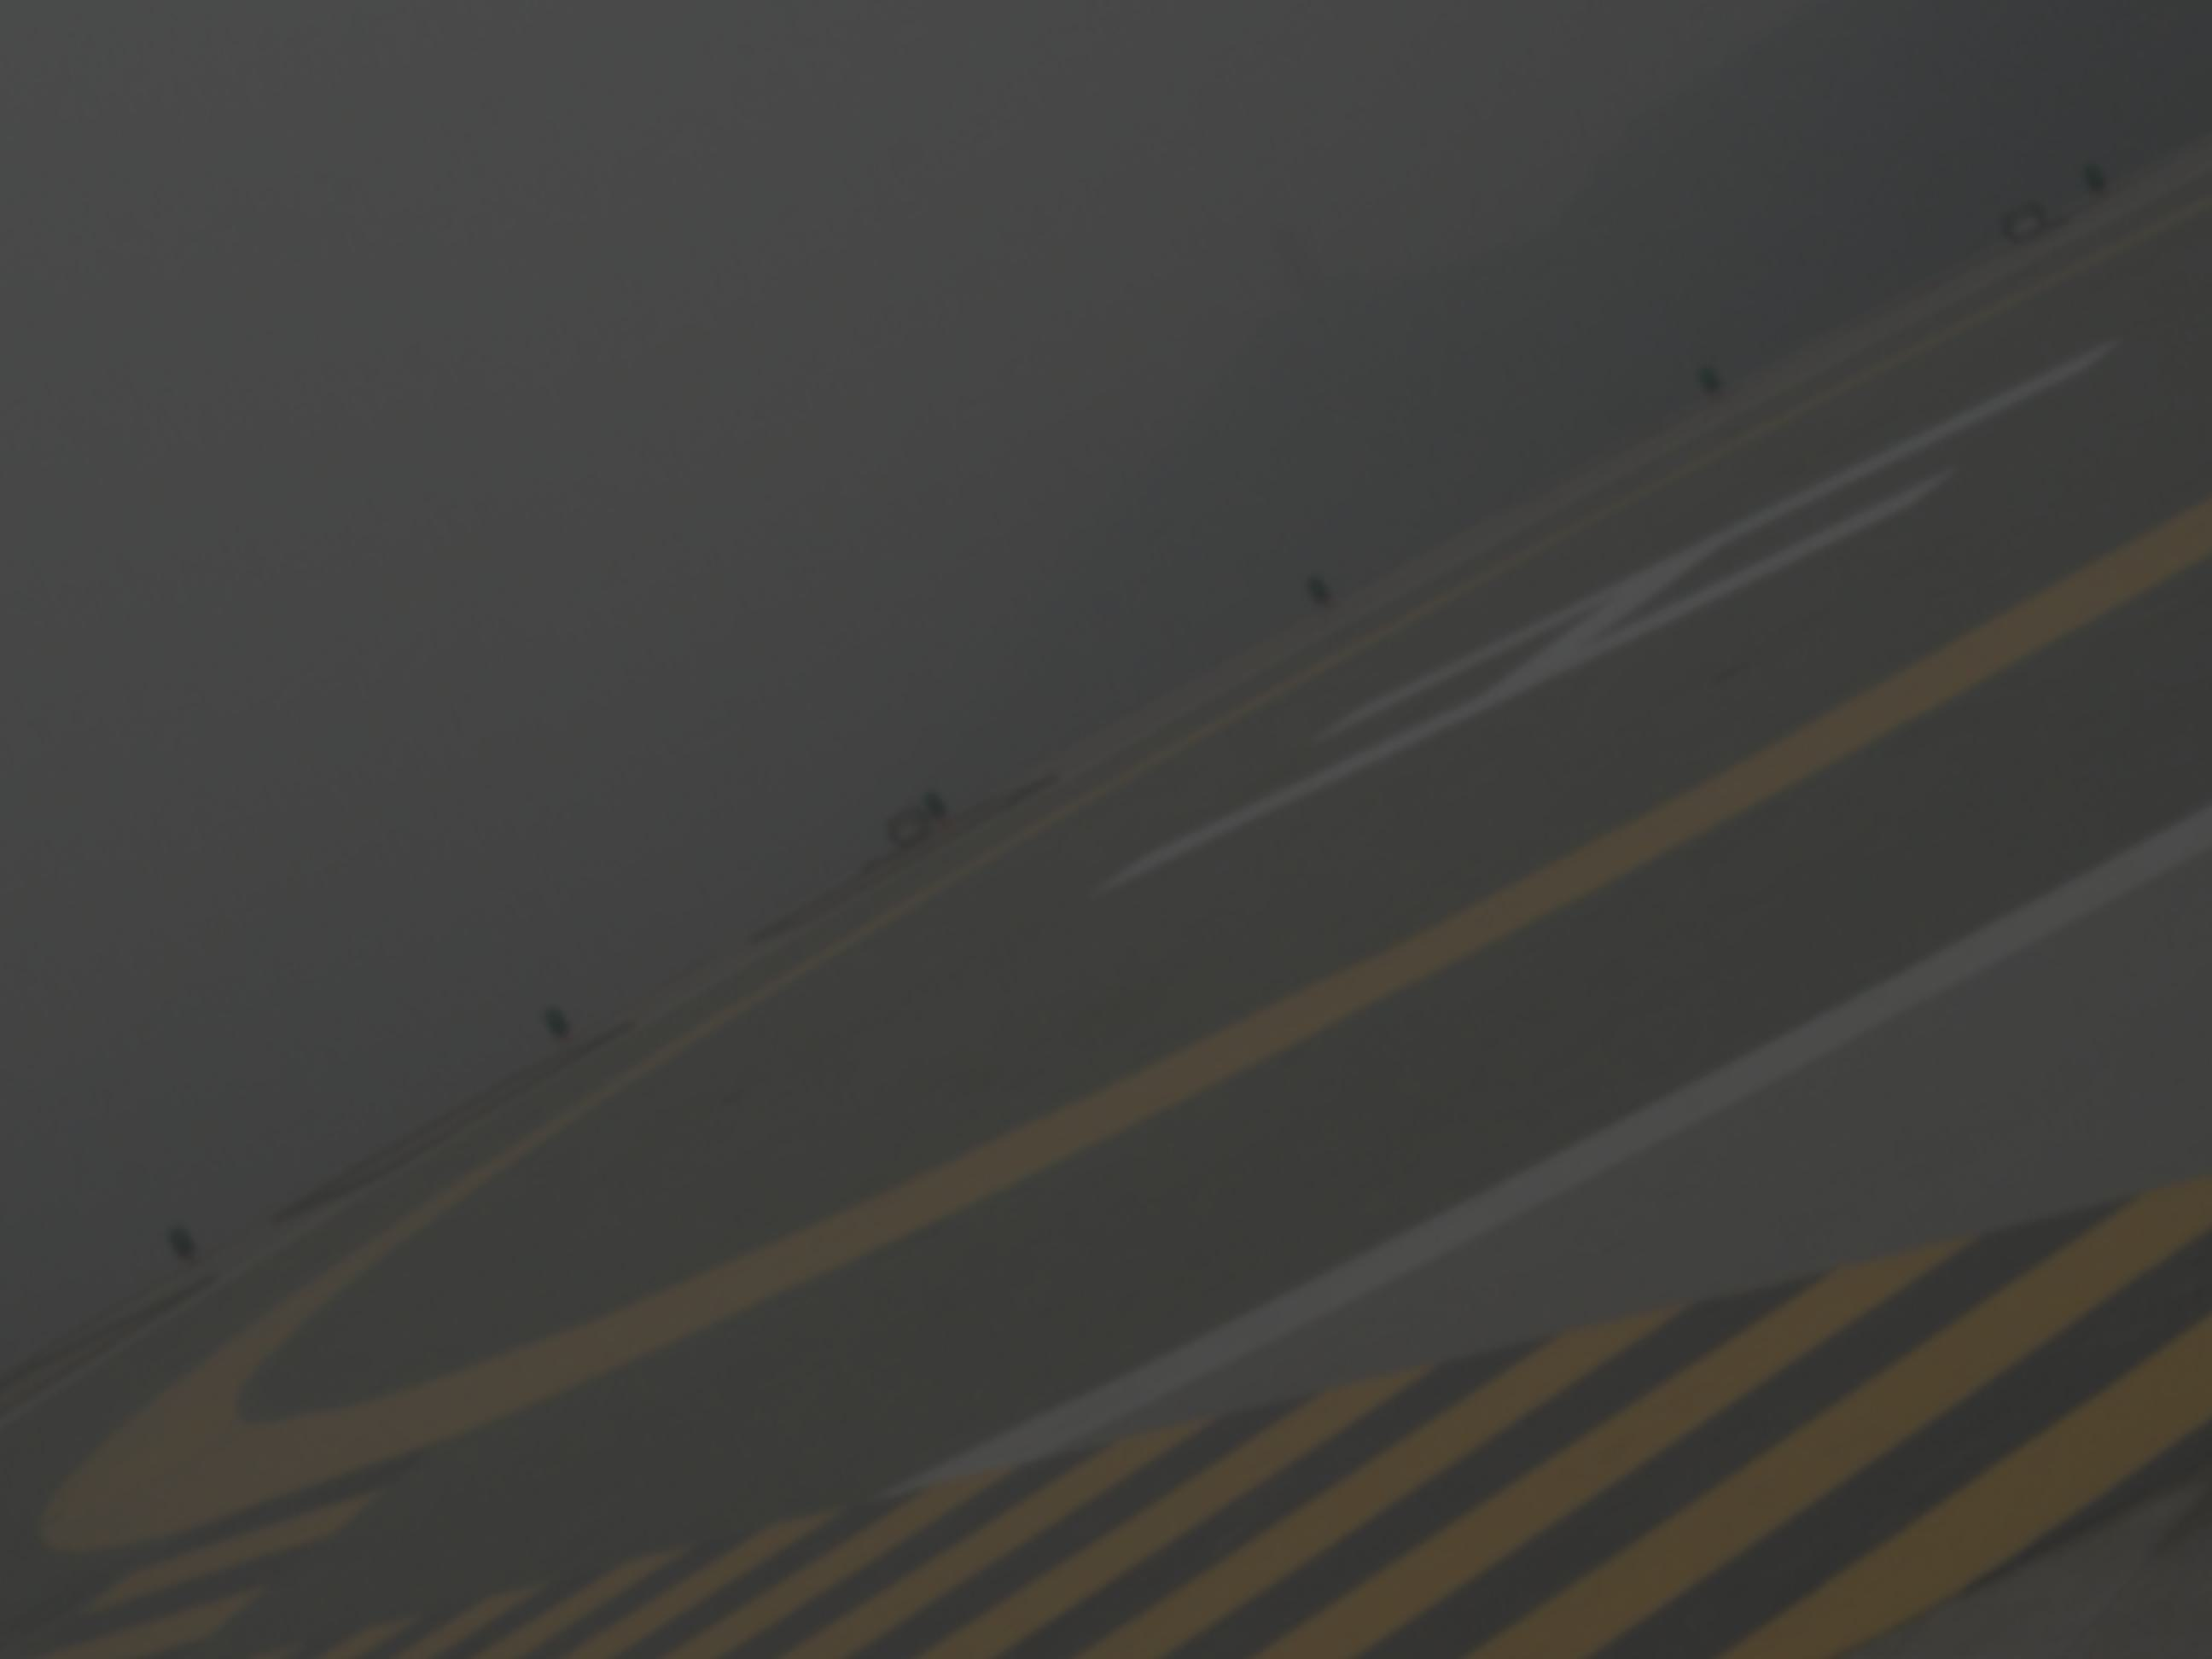Apron: (0, 197, 2189, 1195)
